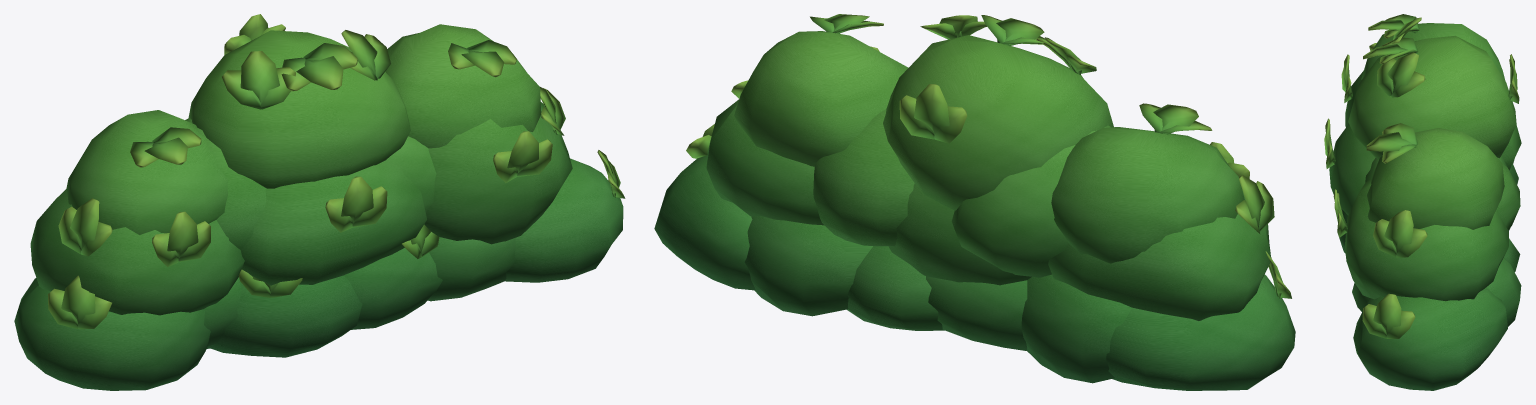
Rendered from 06-arbusto.fbx.
The picture shows the model from 3 angles, left to right: view 1: azimuth 30°, elevation 25°; view 2: azimuth 150°, elevation 25°; view 3: azimuth 270°, elevation 25°; orthographic projection. The views are drawn at different scales.
Parts seen in each view (by area): view 1: Bush_Center_Main, Bush_Left_Medium, Bush_Right_Compact, Bush_LeafTufts; view 2: Bush_Center_Main, Bush_Left_Medium, Bush_Right_Compact, Bush_LeafTufts; view 3: Bush_Right_Compact, Bush_Center_Main, Bush_LeafTufts, Bush_Left_Medium.
Boxes of the visible parts, left/top/right/bottom form: Bush_Center_Main: left=185, top=30, right=442, bottom=357; Bush_Left_Medium: left=14, top=110, right=244, bottom=390; Bush_Right_Compact: left=385, top=24, right=623, bottom=301; Bush_LeafTufts: left=47, top=14, right=625, bottom=329; Bush_Center_Main: left=813, top=35, right=1113, bottom=350; Bush_Left_Medium: left=1021, top=127, right=1295, bottom=390; Bush_Right_Compact: left=654, top=31, right=908, bottom=316; Bush_LeafTufts: left=686, top=14, right=1291, bottom=298; Bush_Right_Compact: left=1344, top=128, right=1521, bottom=390; Bush_Center_Main: left=1329, top=35, right=1521, bottom=271; Bush_LeafTufts: left=1324, top=14, right=1519, bottom=338; Bush_Left_Medium: left=1345, top=23, right=1518, bottom=184.
Bounding box in the file's own units: 3.18 × 1.43 × 1.09.
1 material, 1 textured.
